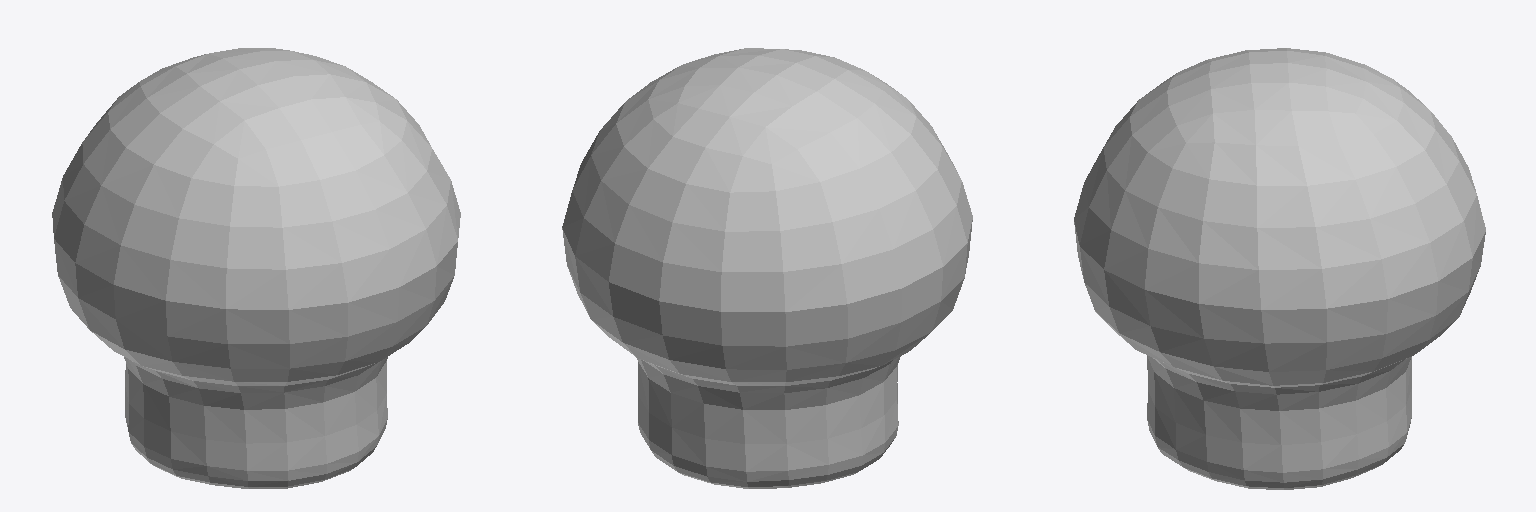
Rendered from jungerprojlo.OBJ.
The picture shows the model from 3 angles: view 1: azimuth 30°, elevation 25°; view 2: azimuth 150°, elevation 25°; view 3: azimuth 270°, elevation 25°; orthographic projection.
Visible parts, largest first — view 1: Group55936; view 2: Group55936; view 3: Group55936.
Boxes of the visible parts, <box> form: Group55936: <box>52,48,460,488</box>; Group55936: <box>562,48,972,488</box>; Group55936: <box>1074,48,1485,489</box>.
Size of the model in its own units: 2.58 by 2.58 by 2.58.